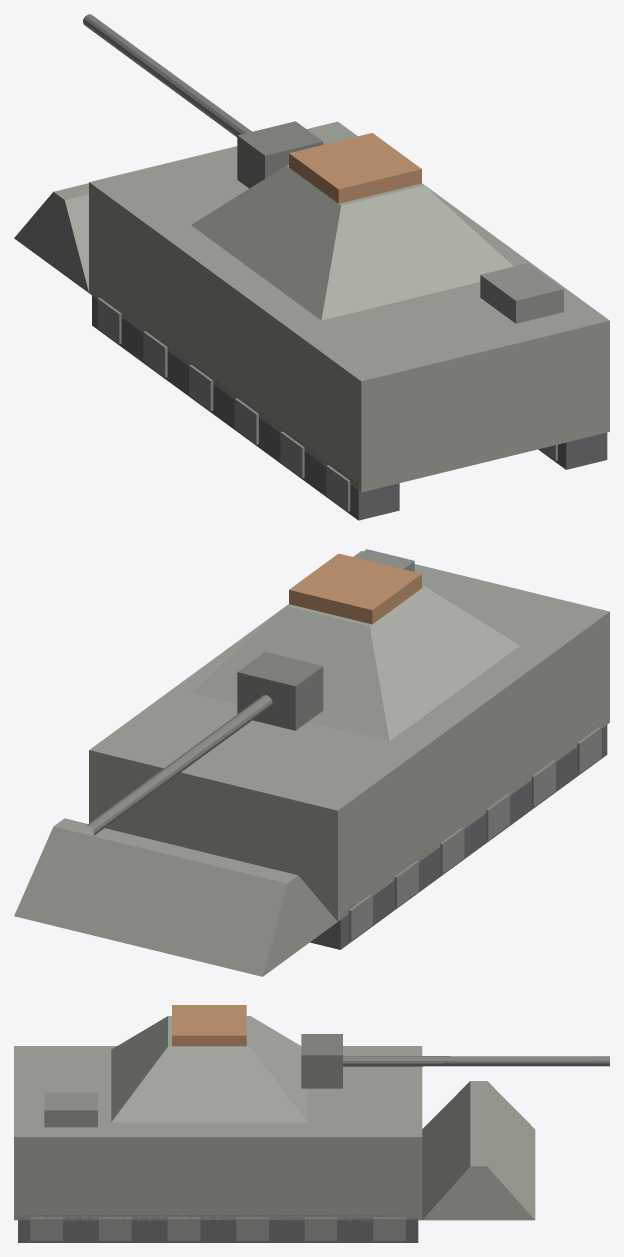
File: mbt_e1_western_hero_LOD0.glb
The picture shows the model from 3 angles, top to bottom: view 1: azimuth 30°, elevation 25°; view 2: azimuth 150°, elevation 25°; view 3: azimuth 270°, elevation 25°; orthographic projection. The views are drawn at different scales.
Visible parts, largest first — view 1: mbt_e1_western_hero_LOD0_body; view 2: mbt_e1_western_hero_LOD0_body; view 3: mbt_e1_western_hero_LOD0_body.
Boxes of the visible parts, x1,y1,x2,y2 form: mbt_e1_western_hero_LOD0_body: (14,14,609,520); mbt_e1_western_hero_LOD0_body: (14,549,609,976); mbt_e1_western_hero_LOD0_body: (14,1005,609,1242).
Bounding box in the file's own units: 3.7 × 3.29 × 10.04.
